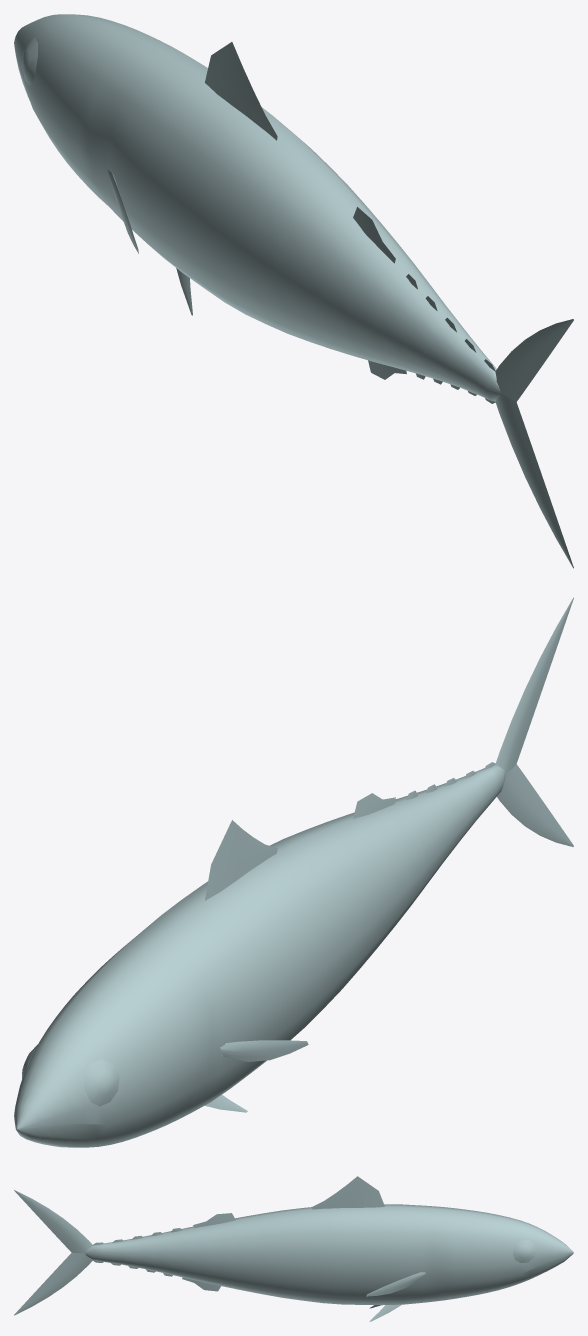
Rendered from pacific_mackerel_lo.glb.
3 renders of one model, top to bottom at view 1: azimuth 30°, elevation 25°; view 2: azimuth 150°, elevation 25°; view 3: azimuth 270°, elevation 25°, orthographic. The views are drawn at different scales.
Visible parts, largest first — view 1: pacific_mackerel_lo; view 2: pacific_mackerel_lo; view 3: pacific_mackerel_lo.
Part boxes in pixels (bbox=[...]): pacific_mackerel_lo: bbox=[14, 14, 573, 568]; pacific_mackerel_lo: bbox=[14, 597, 573, 1147]; pacific_mackerel_lo: bbox=[14, 1176, 573, 1321].
Bounding box in the file's own units: 0.0702 × 0.1096 × 0.3991.
